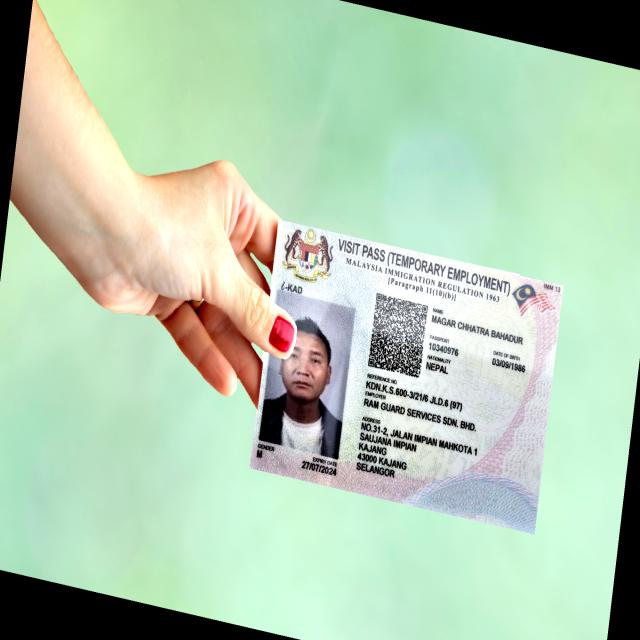ikad-temp: (249, 218, 563, 534)
